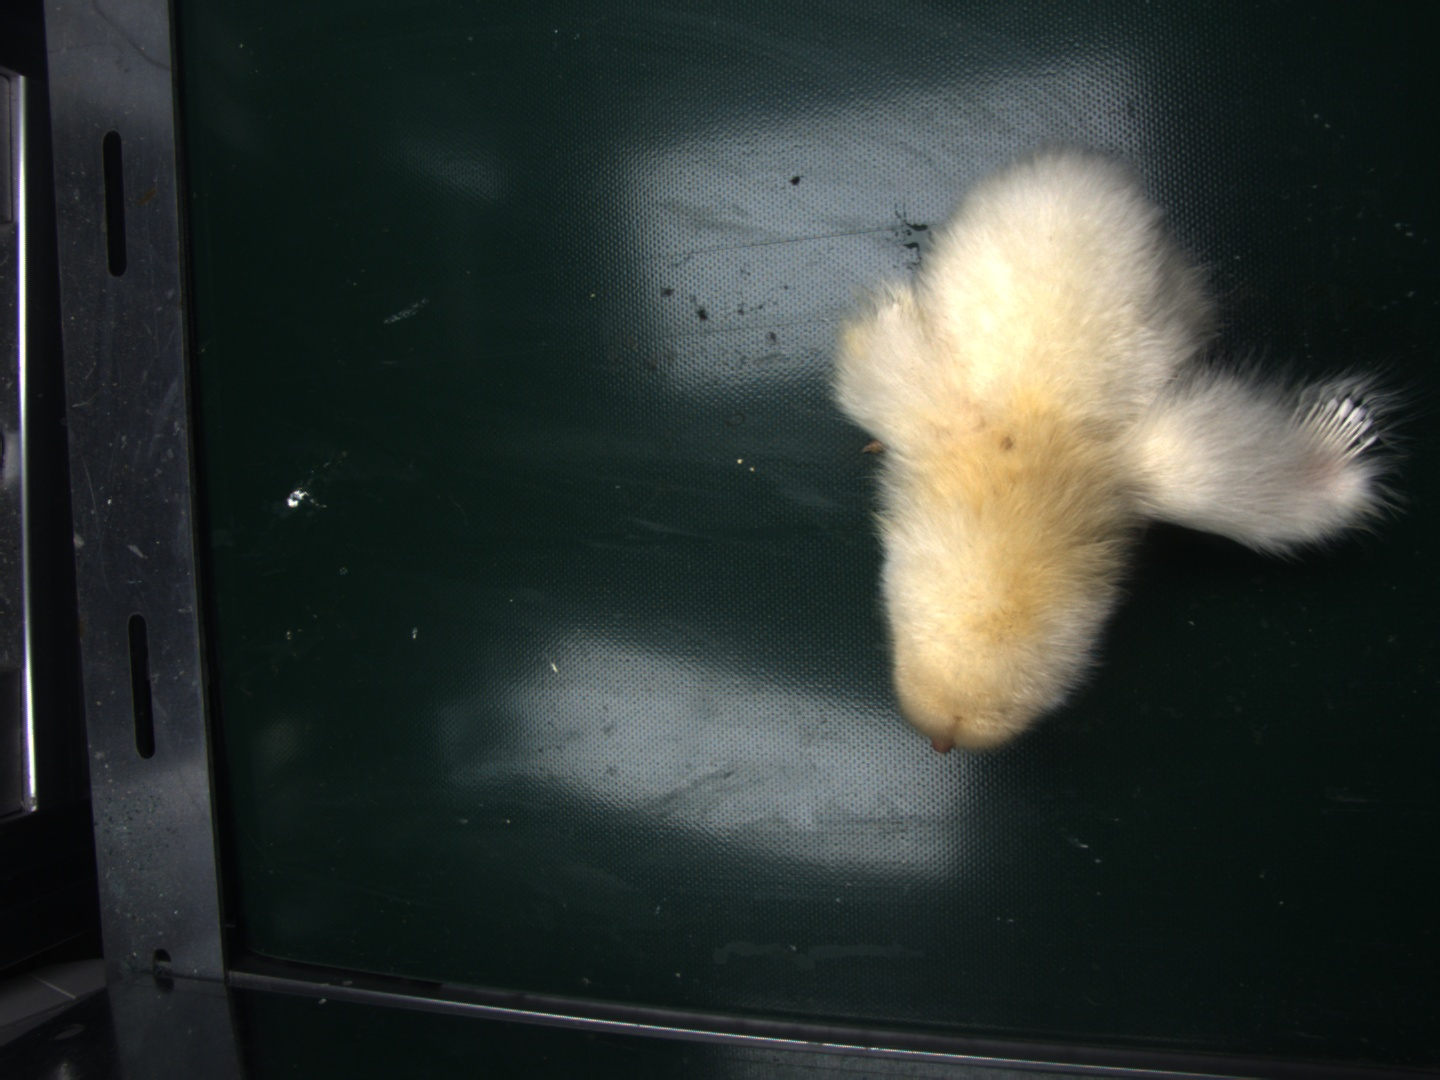male: (1301, 400, 1369, 459)
